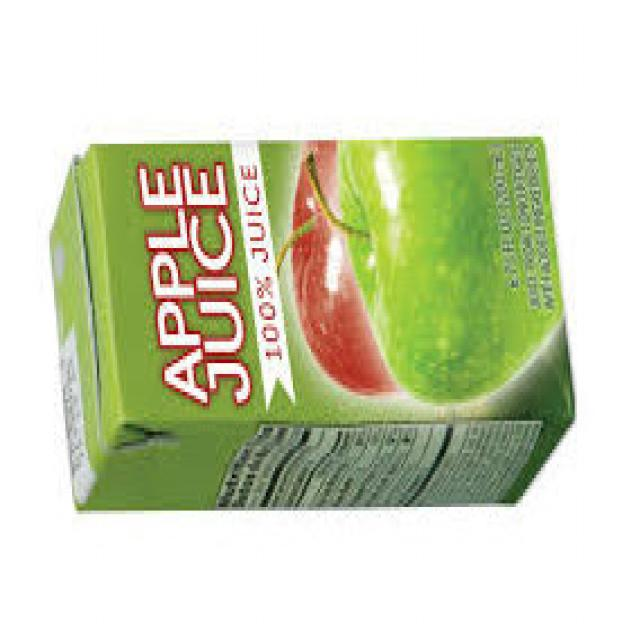non_white_jug: (47, 140, 578, 515)
